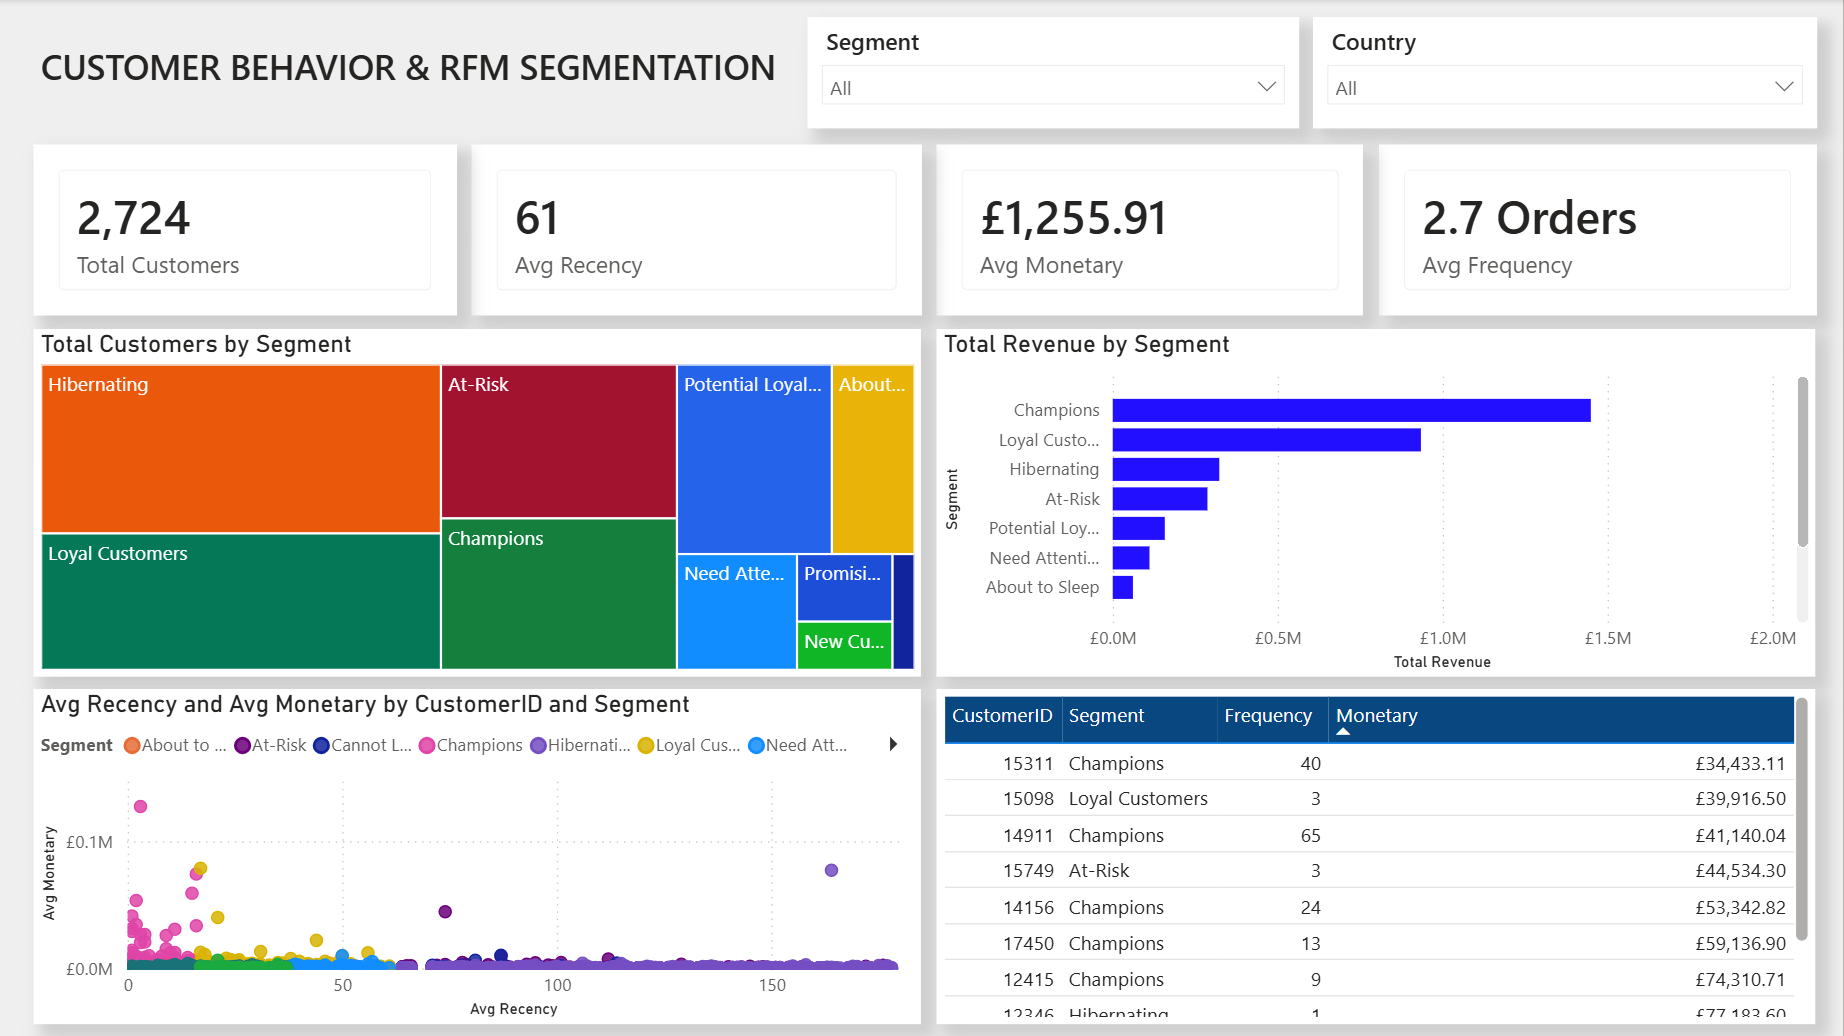

Layout of this report page (visuals, bound fields, positions):
{"tool":"powerbi","page":{"name":"Customer & Segmentation Analysis","canvas":[1280,720],"ordinal":1},"visuals":[{"type":"textbox","box":[24.1,25.3,525.8,47],"z":0},{"type":"slicer","fields":{"Values":["Dim_Customer.Segment"]},"box":[560.8,12.1,341.3,77.2],"z":1000},{"type":"slicer","fields":{"Values":["transactions_clean.Country"]},"box":[911.8,12.1,349.8,77.2],"z":2000},{"type":"cardVisual","fields":{"Data":["Measures (2).Avg Frequency"]},"box":[957.5,101.2,303.8,118.8],"z":3000},{"type":"cardVisual","fields":{"Data":["Measures (2).Avg Monetary"]},"box":[651.2,101.2,296.2,118.8],"z":4000},{"type":"cardVisual","fields":{"Data":["Measures (2).Avg Recency"]},"box":[327.5,101.2,312.5,118.8],"z":5000},{"type":"cardVisual","fields":{"Data":["Measures (2).Total Customers"]},"box":[23.8,101.2,293.8,118.8],"z":6000},{"type":"treemap","fields":{"Group":["Dim_Customer.Segment"],"Values":["Measures (2).Total Customers"]},"box":[23.8,228.8,616.2,241.2],"z":7000},{"type":"clusteredBarChart","fields":{"Category":["Dim_Customer.Segment"],"Y":["Measures (2).Total Revenue"]},"box":[651.2,228.8,610,241.2],"z":8000},{"type":"scatterChart","fields":{"Category":["Dim_Customer.CustomerID"],"X":["Measures Folder.Avg Recency"],"Y":["Measures Folder.Avg Monetary"],"Series":["Dim_Customer.Segment"]},"box":[23.8,478.8,616.2,232.5],"z":9000},{"type":"tableEx","fields":{"Values":["Dim_Customer.CustomerID","Dim_Customer.Segment","Dim_Customer.Frequency","Dim_Customer.Monetary"]},"box":[651.2,478.8,610,232.5],"z":10000}]}

Visuals, with their boxes in screenshot pixels (x1, y1, x2, y2), scaled from the page's 1280x720 canvas onto the 1844x1036 screenshot:
textbox: (x1=35, y1=36, x2=792, y2=104)
slicer - Dim_Customer.Segment: (x1=808, y1=17, x2=1300, y2=128)
slicer - transactions_clean.Country: (x1=1314, y1=17, x2=1817, y2=128)
cardVisual - Measures (2).Avg Frequency: (x1=1379, y1=146, x2=1817, y2=317)
cardVisual - Measures (2).Avg Monetary: (x1=938, y1=146, x2=1365, y2=317)
cardVisual - Measures (2).Avg Recency: (x1=472, y1=146, x2=922, y2=317)
cardVisual - Measures (2).Total Customers: (x1=34, y1=146, x2=458, y2=317)
treemap - Dim_Customer.Segment x Measures (2).Total Customers: (x1=34, y1=329, x2=922, y2=676)
clusteredBarChart - Dim_Customer.Segment x Measures (2).Total Revenue: (x1=938, y1=329, x2=1817, y2=676)
scatterChart - Dim_Customer.CustomerID x Measures Folder.Avg Recency: (x1=34, y1=689, x2=922, y2=1023)
tableEx - Dim_Customer.CustomerID x Dim_Customer.Segment: (x1=938, y1=689, x2=1817, y2=1023)
